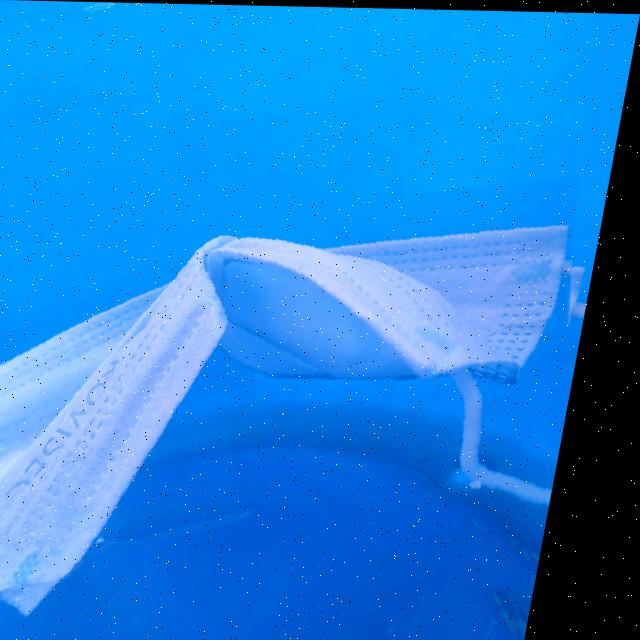mask: (0, 182, 613, 640)
